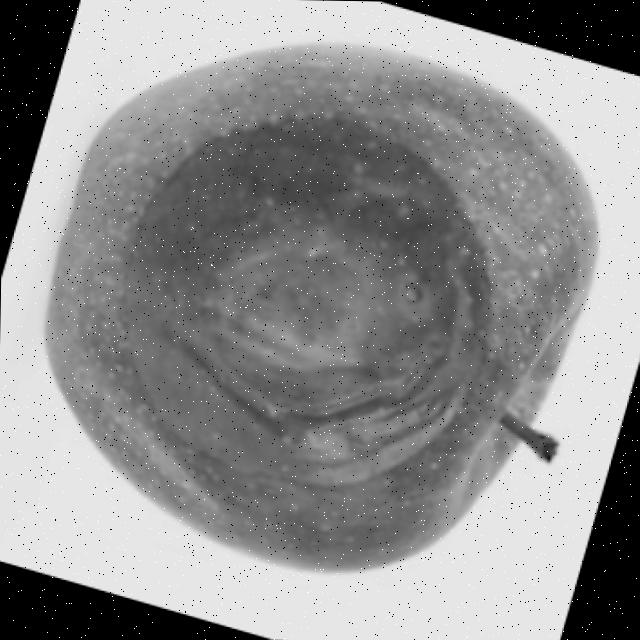Rotten: (37, 34, 605, 594)
